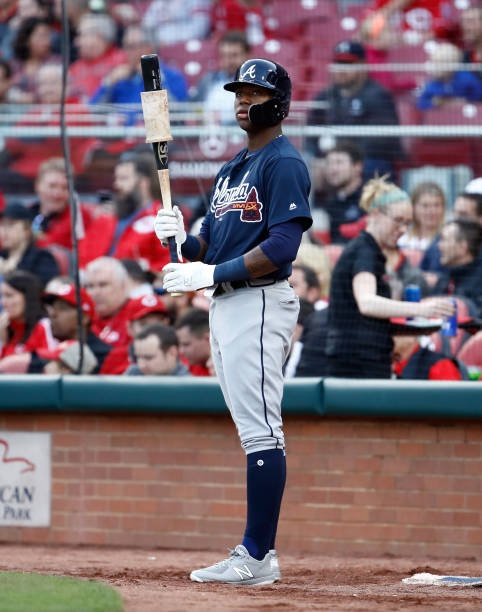bita: (140, 48, 185, 277)
